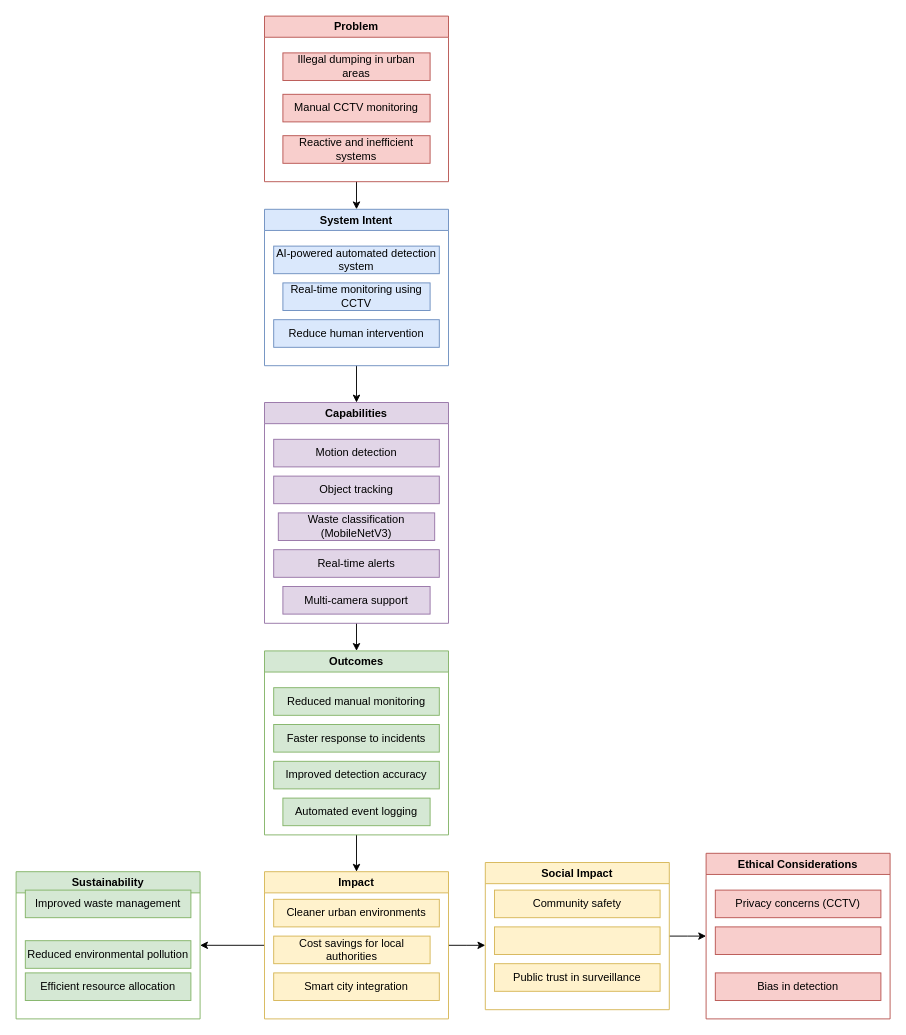
The diagram is 906 pixels wide and 1035 high, and some of its shapes have lost their labels. Each missing label, with the centre of its shape:
Behaviour change: the point at 577,940
Transparency of AI decisions: the point at 797,940
